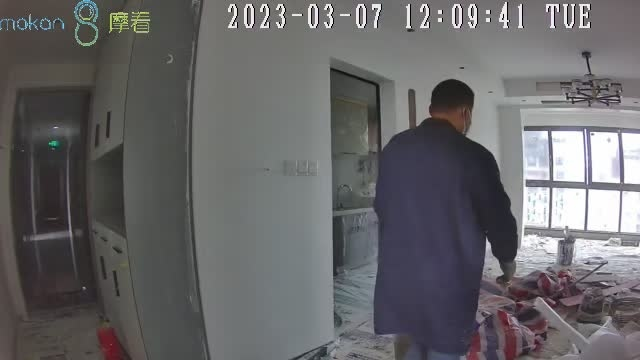people: (374, 78, 513, 360)
window: (524, 124, 640, 235)
